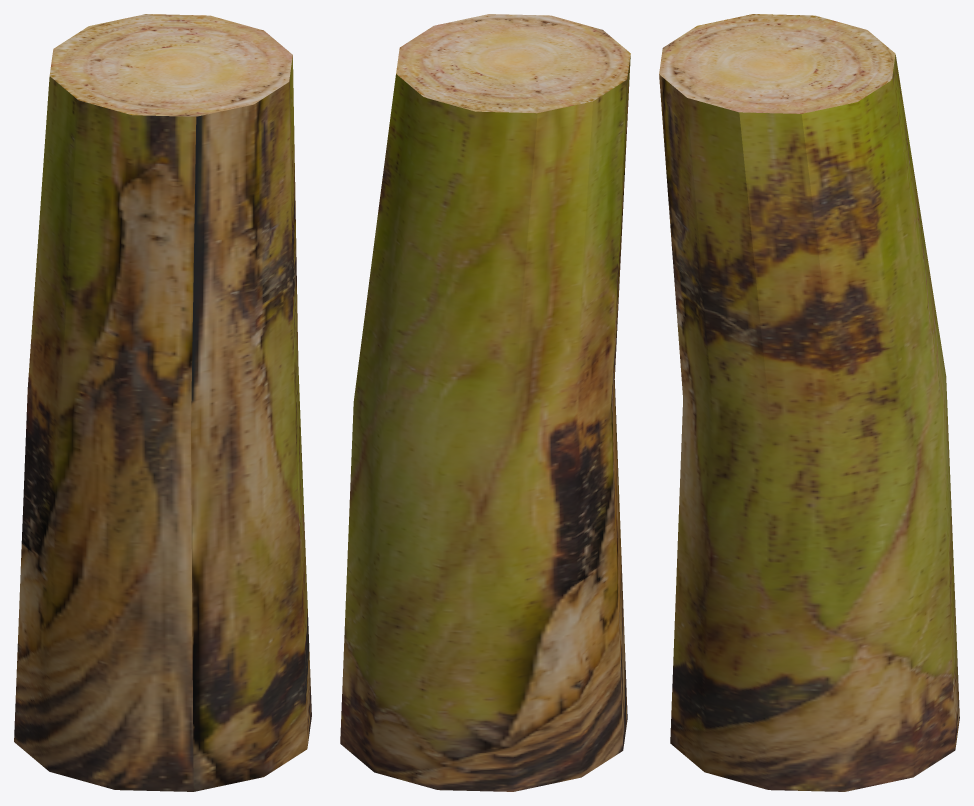
The model's file is BananaTrunk2.fbx.
3 views of the same model, side by side, from view 1: azimuth 30°, elevation 25°; view 2: azimuth 150°, elevation 25°; view 3: azimuth 270°, elevation 25° (orthographic). The views are drawn at different scales.
Parts seen in each view (by area): view 1: BananaTrunk 2; view 2: BananaTrunk 2; view 3: BananaTrunk 2.
Boxes of the visible parts, left/top/right/bottom form: BananaTrunk 2: left=14, top=14, right=311, bottom=791; BananaTrunk 2: left=340, top=14, right=630, bottom=791; BananaTrunk 2: left=659, top=14, right=959, bottom=791.
Bounding box in the file's own units: 35.7 × 89.96 × 37.07.
1 material, 1 textured.
